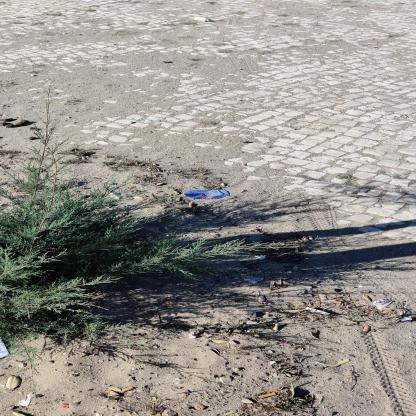metal: (184, 190, 230, 200)
